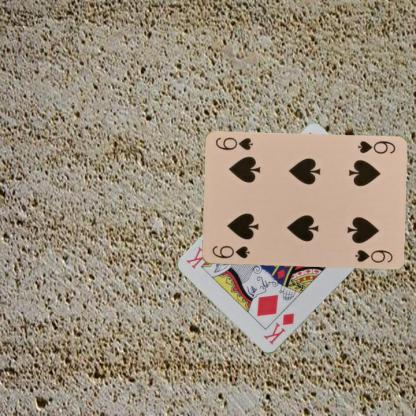6s: (355, 138, 396, 156), (209, 243, 251, 260)
Kd: (260, 311, 296, 347)
